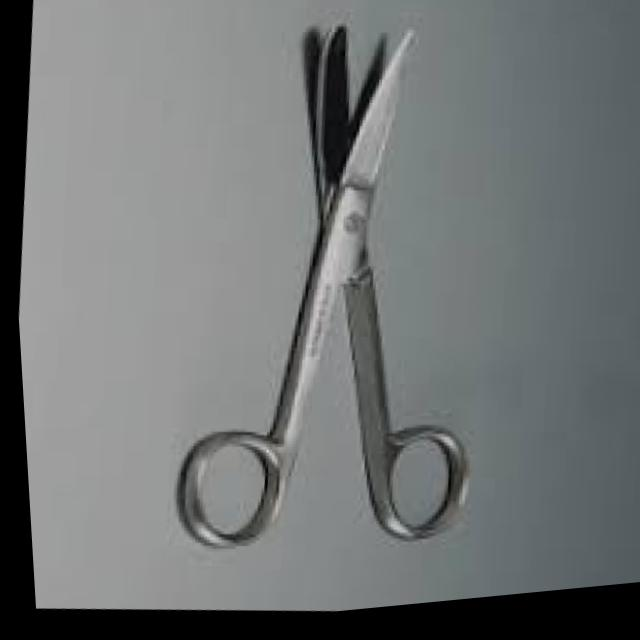scissor: (145, 0, 511, 578)
